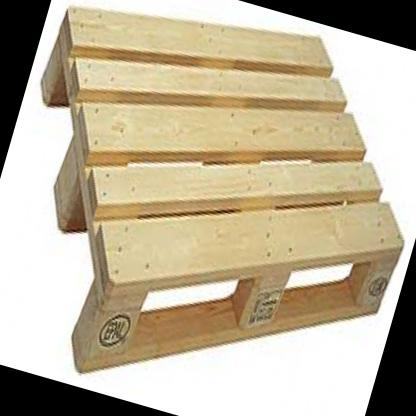BoxFace: (36, 3, 406, 377)
